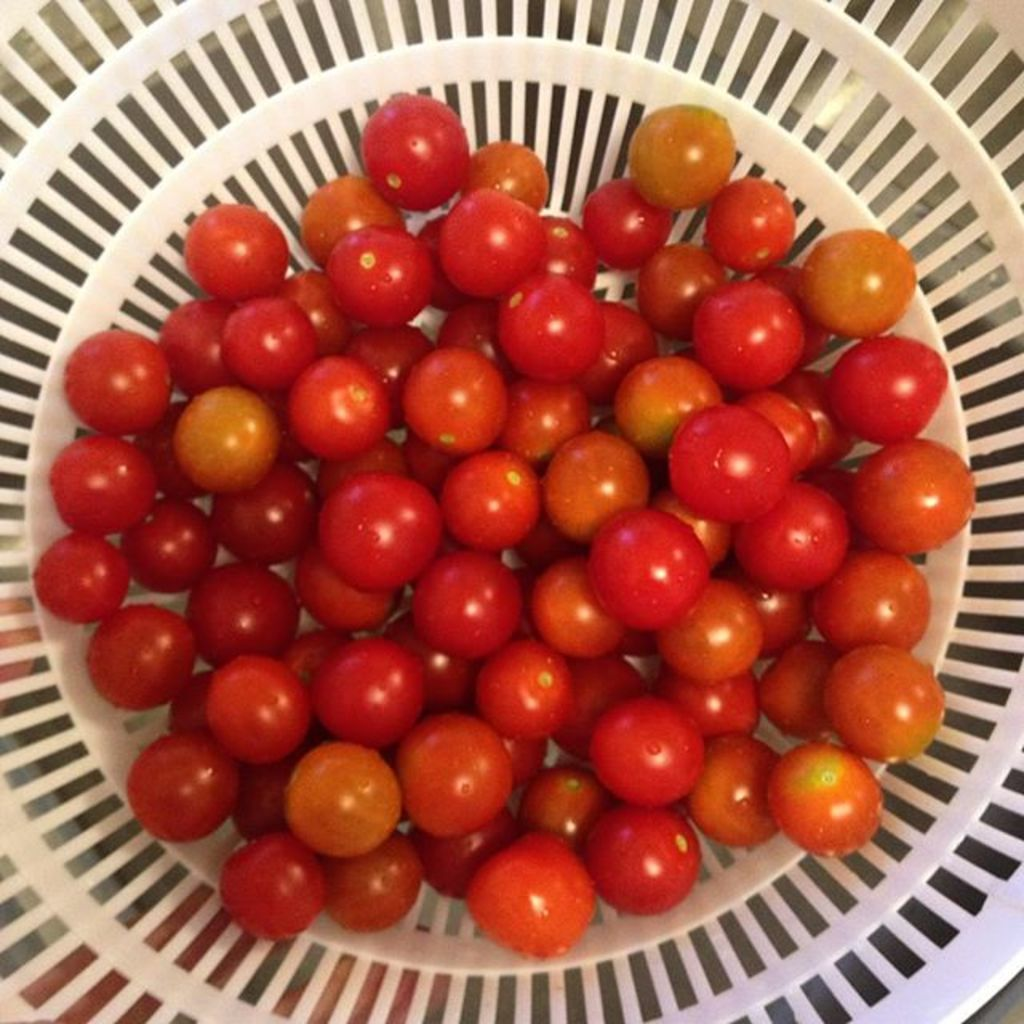Tomato: (36, 84, 977, 979), (681, 393, 824, 518)
